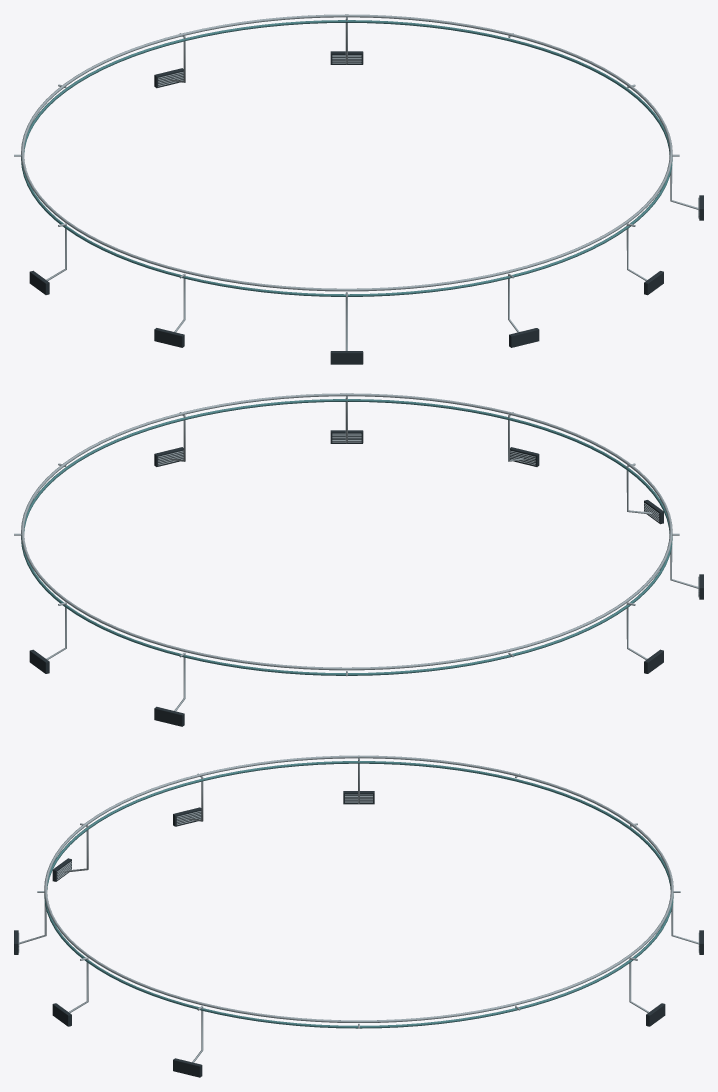
Rendered from RD_E01_Services.fbx.
3 views of the same model, one above another, from view 1: azimuth 30°, elevation 25°; view 2: azimuth 150°, elevation 25°; view 3: azimuth 270°, elevation 25° (orthographic). The views are drawn at different scales.
Visible parts, largest first — view 1: RD_E01_Services; view 2: RD_E01_Services; view 3: RD_E01_Services.
Part boxes in pixels (box(x1,y1,x2,y2)): RD_E01_Services: box(14, 14, 703, 364); RD_E01_Services: box(14, 393, 703, 726); RD_E01_Services: box(14, 755, 703, 1077).
Bounding box in the file's own units: 1459 × 146 × 1511.
